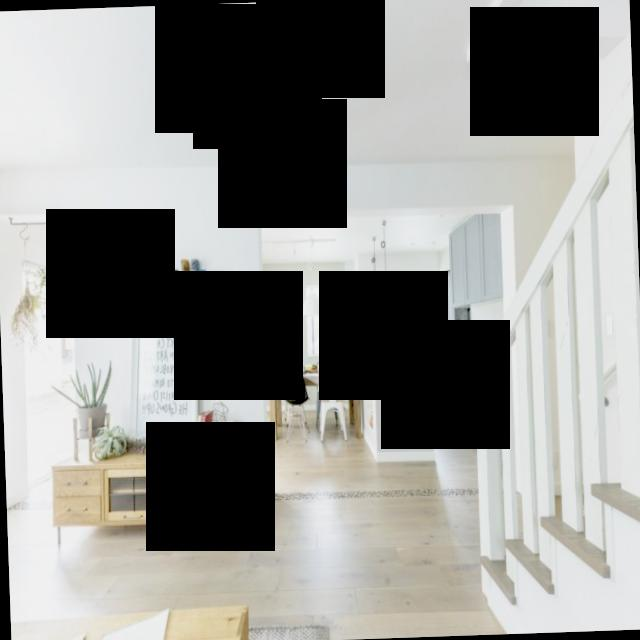natural chair: (318, 362, 352, 443), (281, 366, 310, 440)
natural shelf: (45, 434, 247, 552)
